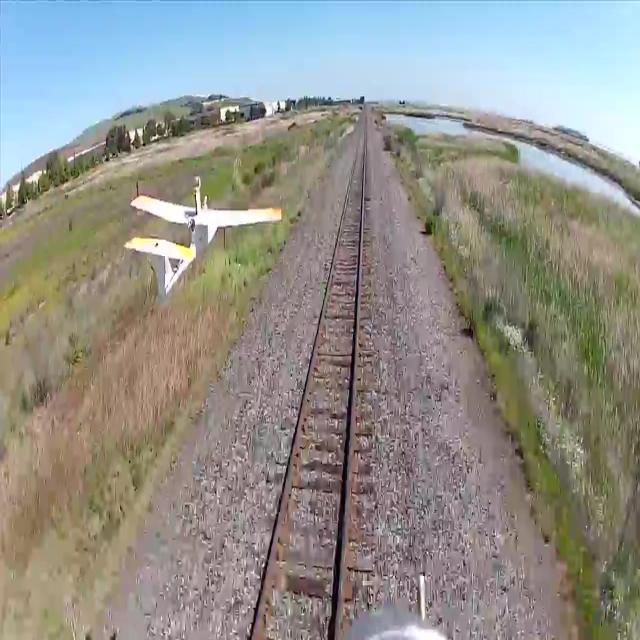iha: (114, 208, 278, 269)
